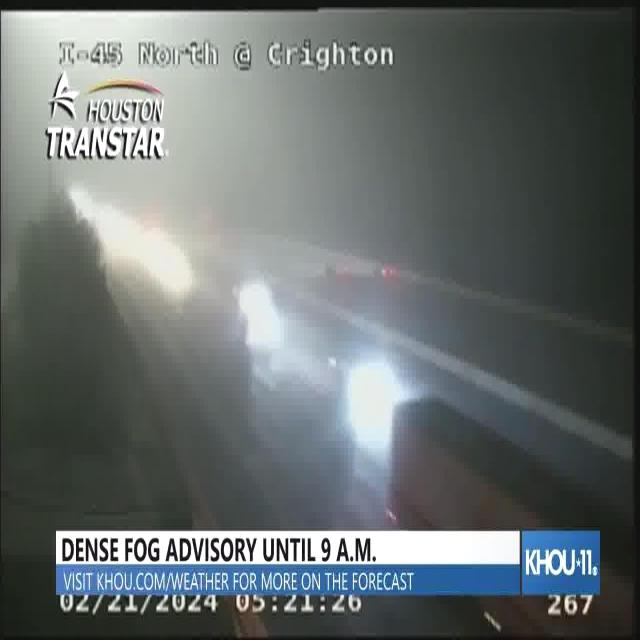Truck: (382, 386, 640, 640)
